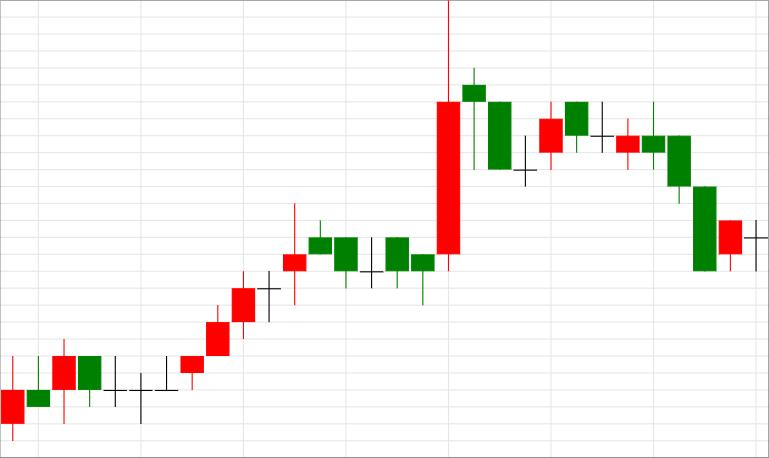evening_star_fall: (361, 1, 511, 305)
